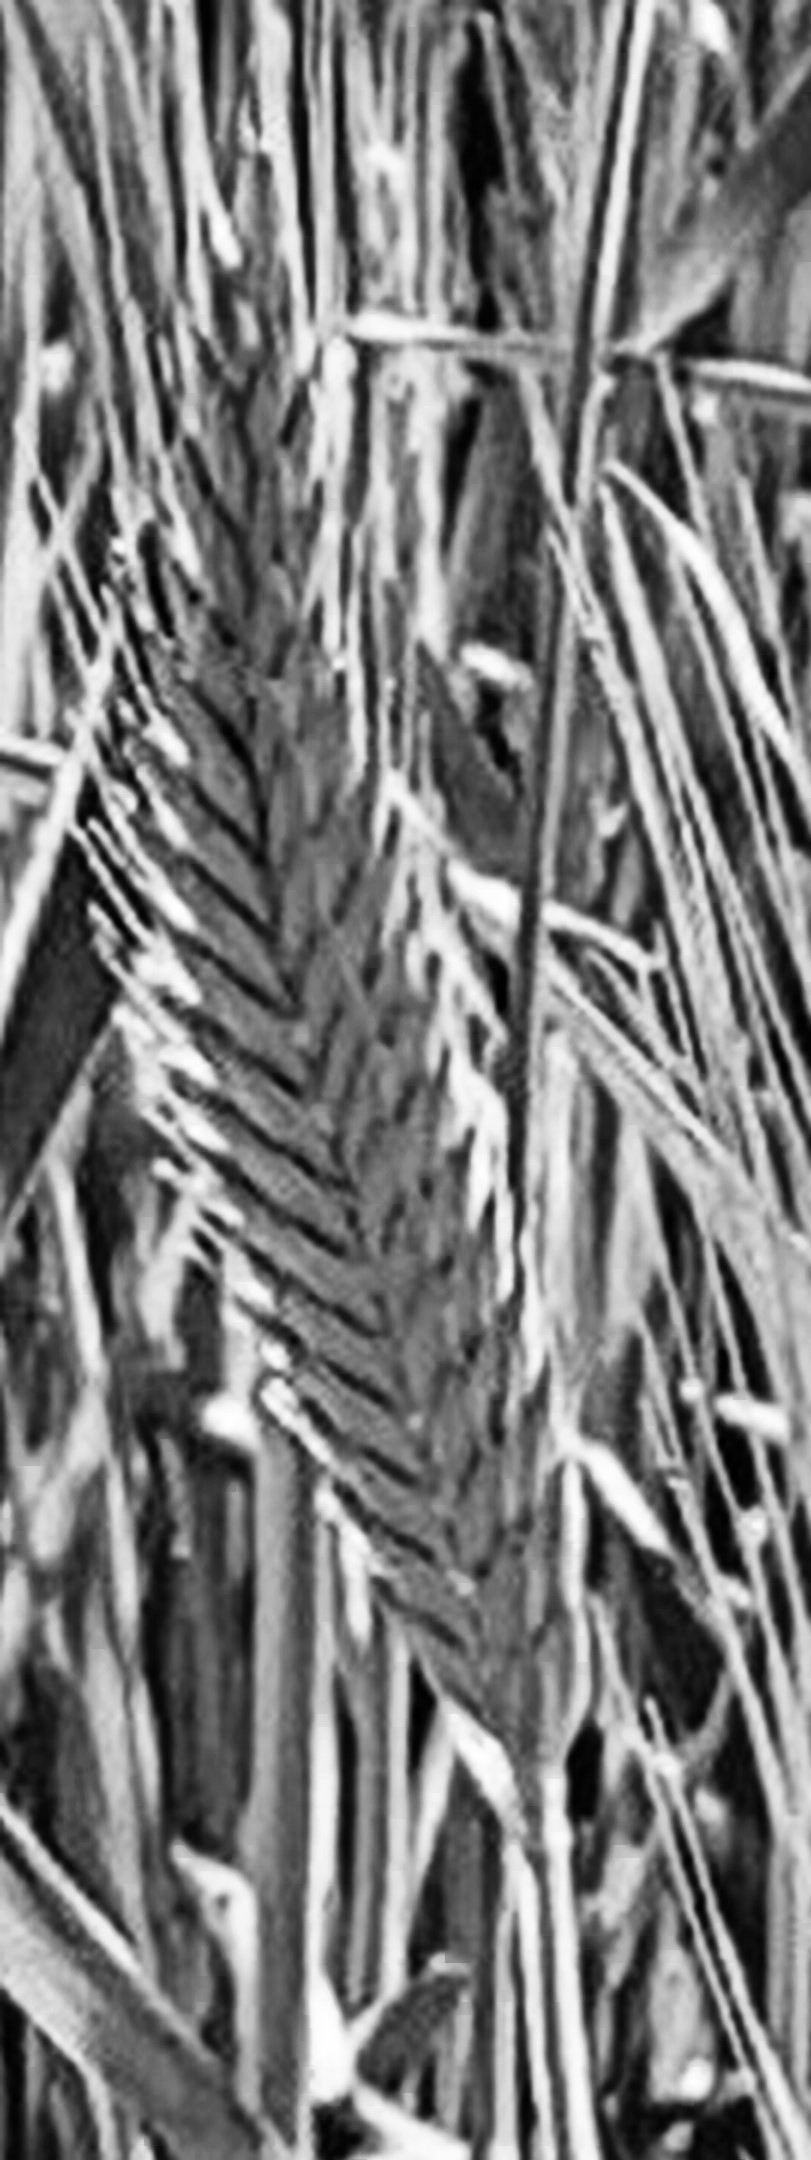Healthy Wheat: (113, 326, 650, 1752)
